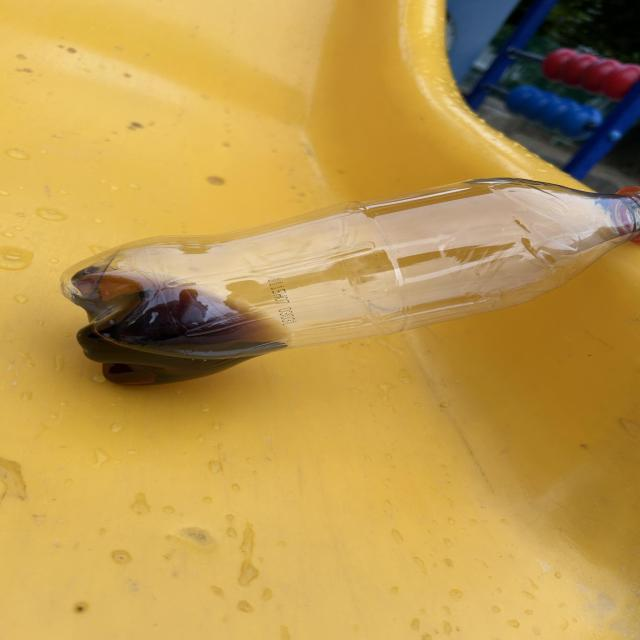low: (61, 178, 640, 384)
